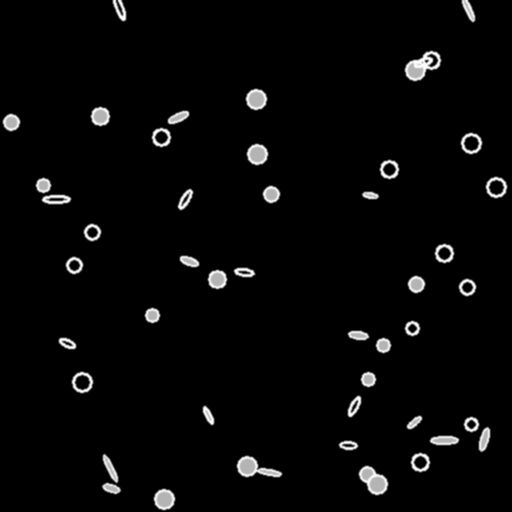pseudomonas: (101, 454, 119, 482), (177, 188, 193, 210), (460, 0, 476, 21), (167, 110, 189, 124), (112, 0, 126, 20), (347, 396, 361, 416), (478, 428, 490, 450), (58, 336, 76, 350), (179, 255, 199, 267), (406, 415, 422, 429), (414, 56, 432, 68), (202, 406, 214, 424), (257, 468, 281, 476), (102, 483, 120, 493), (42, 196, 70, 202), (431, 437, 457, 443), (339, 441, 357, 449), (235, 268, 253, 276), (349, 331, 367, 339), (362, 191, 378, 199)
synechocystis: (462, 134, 480, 152), (73, 373, 91, 391), (155, 490, 173, 508), (406, 61, 424, 79), (487, 178, 505, 196), (248, 145, 266, 163), (238, 457, 256, 475), (247, 90, 265, 108), (368, 475, 386, 493), (412, 454, 428, 470), (153, 129, 169, 145), (381, 161, 397, 177), (209, 271, 225, 287), (423, 52, 439, 68), (92, 108, 108, 124), (436, 245, 452, 261), (67, 258, 81, 272), (85, 225, 99, 239), (460, 280, 474, 294), (409, 277, 423, 291), (4, 115, 18, 129), (360, 467, 374, 481), (264, 187, 278, 201), (377, 339, 389, 351), (37, 179, 49, 191), (252, 93, 264, 105), (362, 373, 374, 385), (406, 322, 418, 334), (465, 418, 477, 430), (146, 309, 158, 321)
